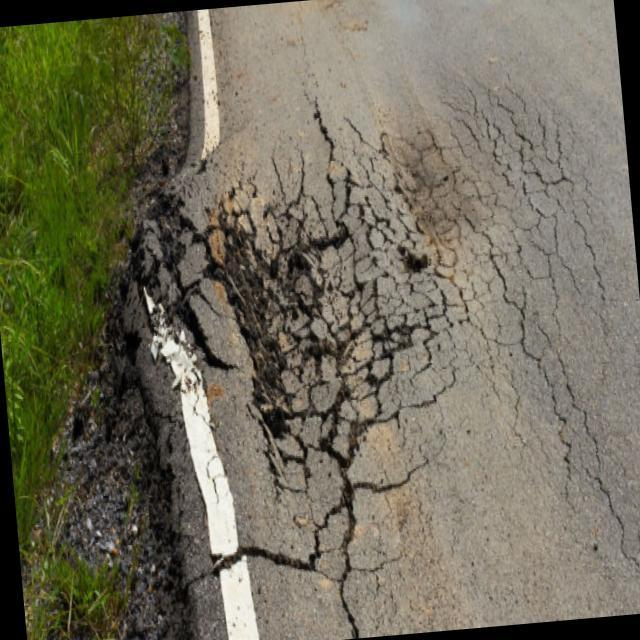Pothole: (193, 122, 390, 566), (379, 118, 469, 303)
